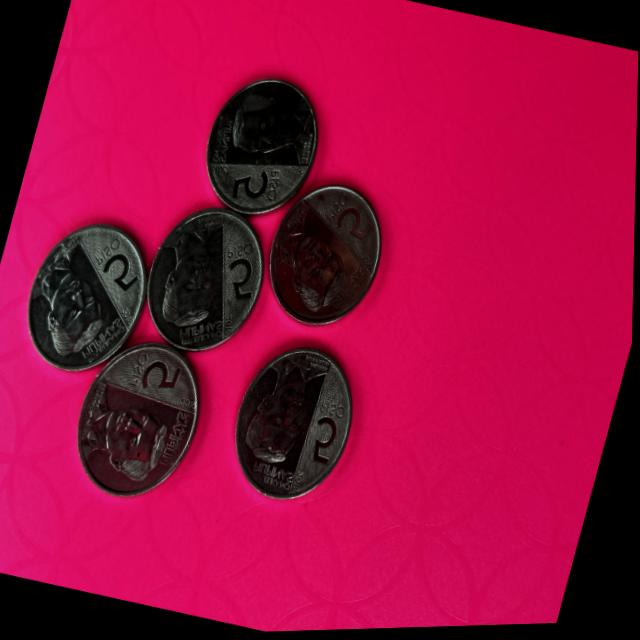5_New_Front: (83, 233, 152, 304), (210, 237, 272, 313), (316, 189, 384, 256), (124, 349, 192, 410), (302, 397, 351, 471), (225, 165, 288, 218)
